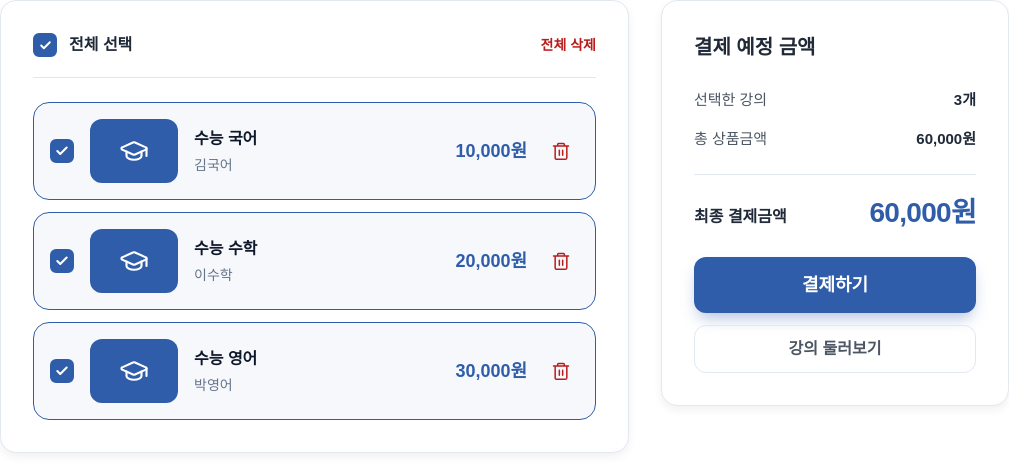
Test: CartClient — 장바구니 통합 › 선택 토글 → 합계 갱신 › 모두 해제하면 0개·0원이며 결제하기가 비활성화된다
Click the button with aria-label "수능 국어 선택": (134, 151) [50, 119, 527, 183]
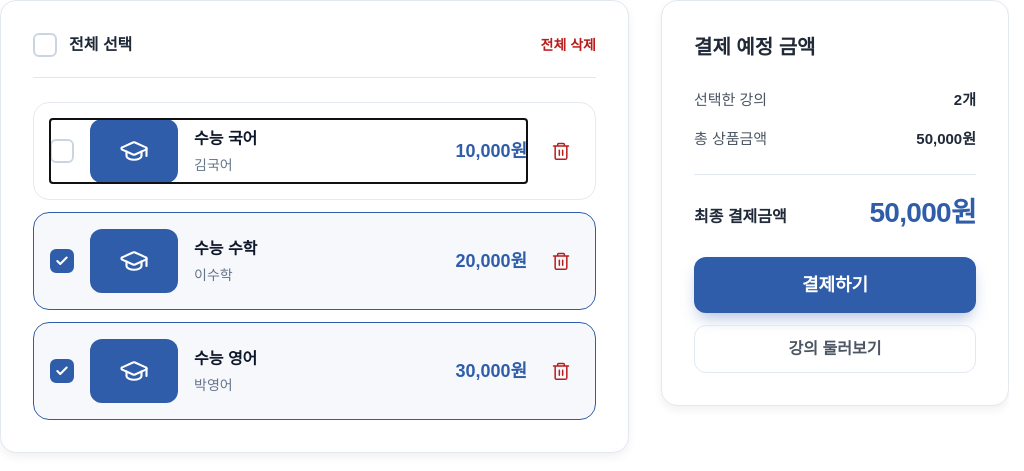
Click the button with aria-label "수능 수학 선택": (134, 261) [50, 229, 527, 293]
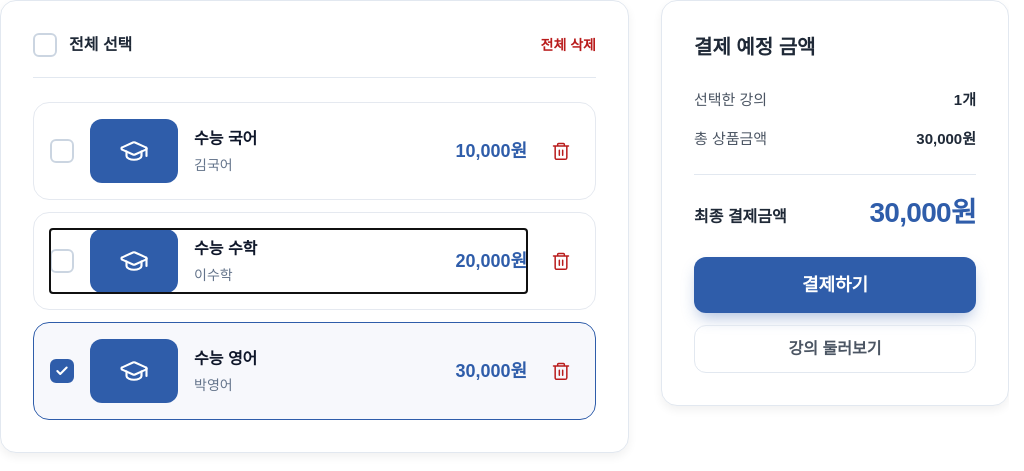
Click the button with aria-label "수능 영어 선택": (134, 371) [50, 339, 527, 403]
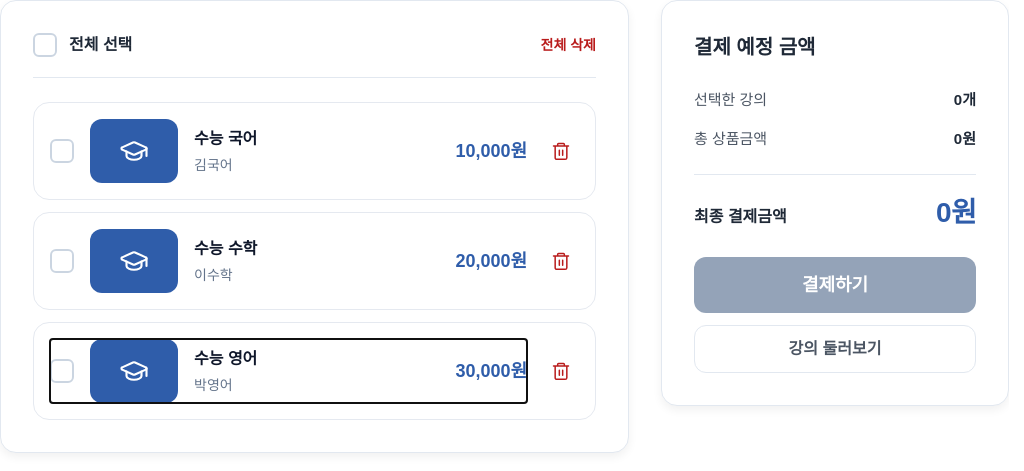
Expected: the text "0원" is shown 2 times, [954, 128, 976, 150]; [936, 199, 976, 227]
Result: the text "0개" is shown at [954, 89, 976, 112]
Result: the button "결제하기" is disabled at [694, 257, 976, 313]
